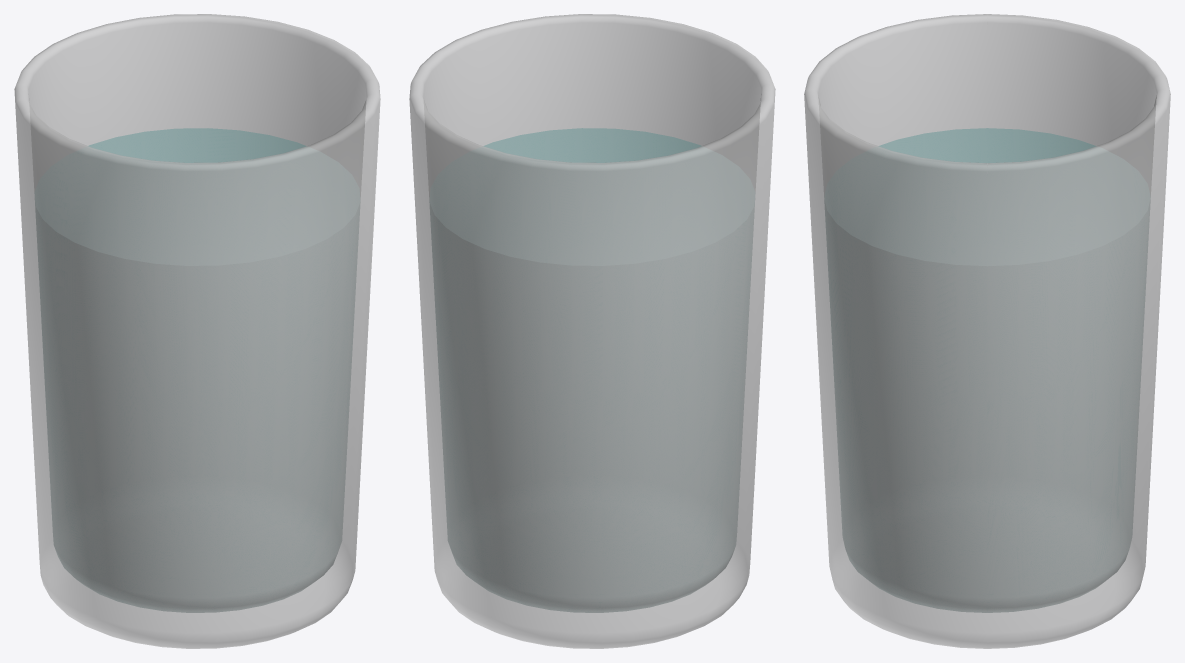
File: WaterCup.fbx
The picture shows the model from 3 angles, left to right: view 1: azimuth 30°, elevation 25°; view 2: azimuth 150°, elevation 25°; view 3: azimuth 270°, elevation 25°; orthographic projection.
Visible parts, largest first — view 1: Cylinder.002, Cylinder.003; view 2: Cylinder.002, Cylinder.003; view 3: Cylinder.002, Cylinder.003.
Part boxes in pixels (bbox=[...]): Cylinder.002: bbox=[14, 14, 380, 648]; Cylinder.003: bbox=[35, 128, 359, 612]; Cylinder.002: bbox=[409, 14, 775, 648]; Cylinder.003: bbox=[430, 128, 754, 612]; Cylinder.002: bbox=[804, 14, 1170, 648]; Cylinder.003: bbox=[825, 128, 1149, 612].
Bounding box in the file's own units: 6.5 × 9.83 × 6.5.
